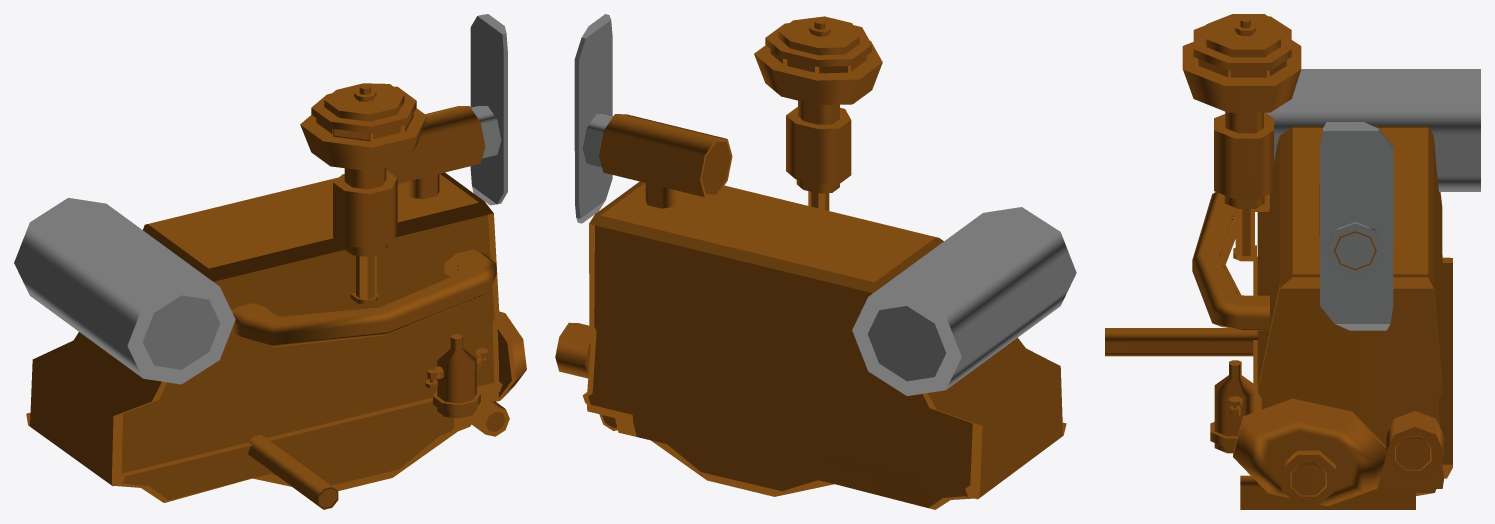
The model's file is MotorCarro.fbx.
3 views of the same model, side by side, from view 1: azimuth 30°, elevation 25°; view 2: azimuth 150°, elevation 25°; view 3: azimuth 270°, elevation 25° (orthographic). The views are drawn at different scales.
Visible parts, largest first — view 1: MotorCarro; view 2: MotorCarro; view 3: MotorCarro.
Part boxes in pixels (box(x1,y1,x2,y2)): MotorCarro: box(14, 14, 526, 509); MotorCarro: box(555, 14, 1076, 509); MotorCarro: box(1105, 14, 1480, 509).
Bounding box in the file's own units: 70.6 × 66.12 × 48.72.
